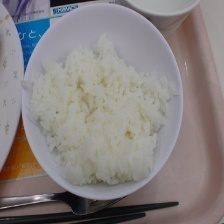rice: (33, 44, 178, 184)
